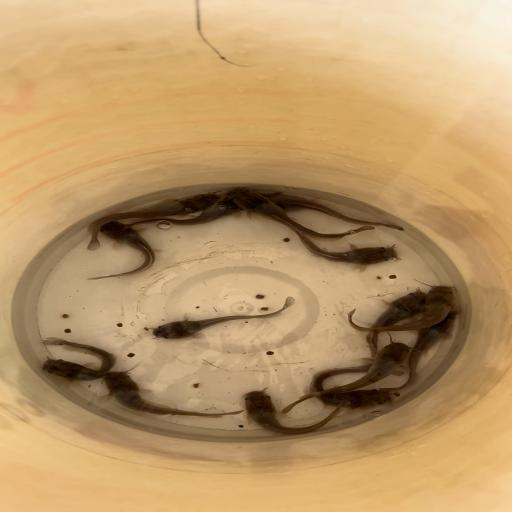lele: (279, 340, 412, 415), (82, 192, 222, 251), (225, 186, 375, 240), (102, 370, 246, 422), (146, 296, 298, 342), (268, 214, 401, 266), (379, 310, 463, 392), (260, 192, 404, 231), (240, 386, 350, 435), (346, 284, 458, 332), (362, 289, 431, 364), (83, 218, 157, 282), (307, 365, 405, 410), (120, 197, 242, 231), (36, 336, 119, 382)
